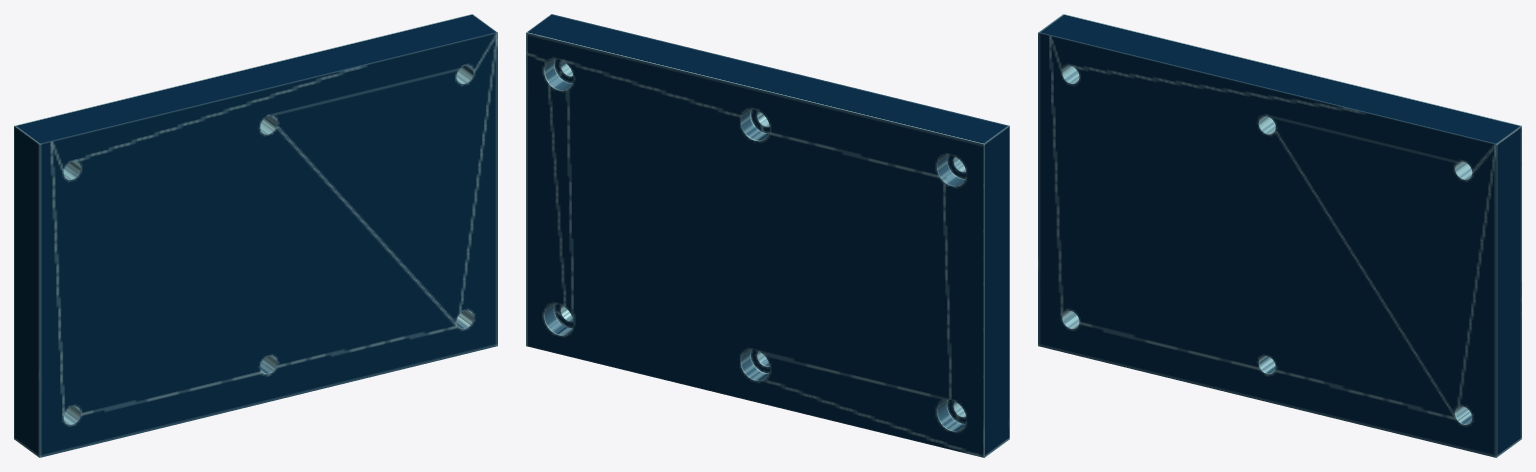
File: Mold3-Ejector retaining plate-M.glb
3 views of the same model, side by side, from view 1: azimuth 30°, elevation 25°; view 2: azimuth 150°, elevation 25°; view 3: azimuth 330°, elevation 25° (orthographic).
Visible parts, largest first — view 1: Contre plaque d'éjection; view 2: Contre plaque d'éjection; view 3: Contre plaque d'éjection.
Boxes of the visible parts, bbox=[...] form: Contre plaque d'éjection: bbox=[14, 14, 497, 457]; Contre plaque d'éjection: bbox=[526, 14, 1009, 457]; Contre plaque d'éjection: bbox=[1038, 14, 1521, 457].
Bounding box in the file's own units: 11.58 × 7.57 × 1.12.
Materials: 1 (1 with a texture image).
